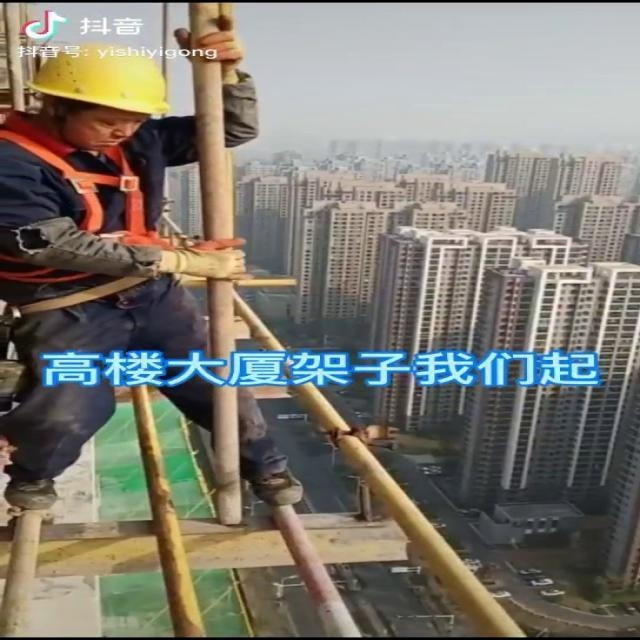Arnes_seguridad: (0, 125, 189, 289)
